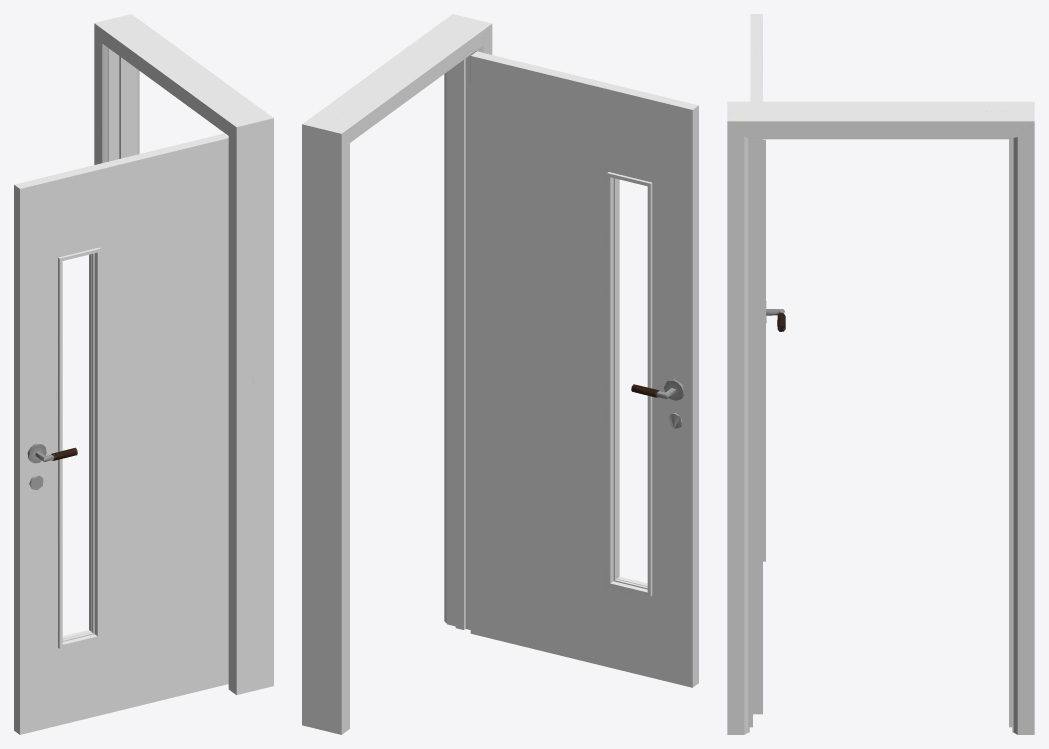
Rendered from Door0027open.obj.
The picture shows the model from 3 angles, left to right: view 1: azimuth 30°, elevation 25°; view 2: azimuth 150°, elevation 25°; view 3: azimuth 270°, elevation 25°; orthographic projection. The views are drawn at different scales.
Bounding box in the file's own units: 0.951 × 2.12 × 0.964.
Materials: 1 (1 with a texture image).
